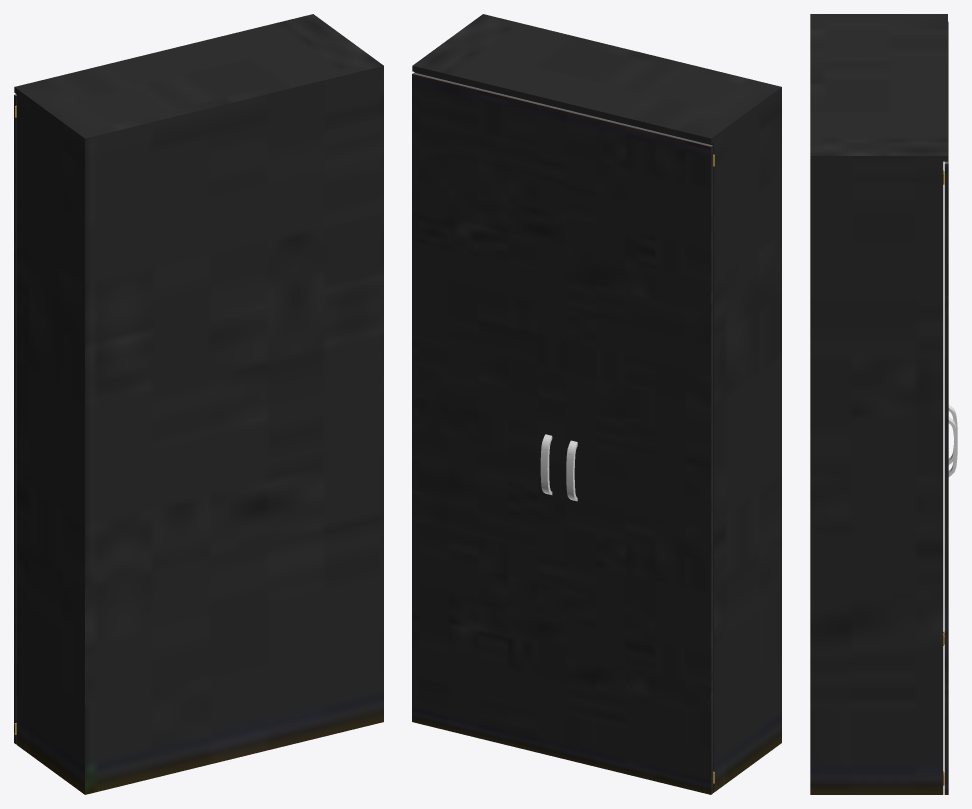
The model's file is Closet50.glb.
The picture shows the model from 3 angles, left to right: view 1: azimuth 30°, elevation 25°; view 2: azimuth 150°, elevation 25°; view 3: azimuth 270°, elevation 25°; orthographic projection. The views are drawn at different scales.
Visible parts, largest first — view 1: Closet50_model, Closet50DoorR; view 2: Closet50DoorR, Closet50DoorL, Closet50_model; view 3: Closet50_model, Closet50DoorL.
Part boxes in pixels (x1,y1,x2,y2): Closet50_model: (14, 14, 383, 794); Closet50DoorR: (14, 94, 16, 744); Closet50DoorR: (561, 109, 714, 794); Closet50DoorL: (412, 72, 562, 758); Closet50_model: (412, 14, 781, 792); Closet50_model: (810, 14, 947, 794); Closet50DoorL: (943, 93, 957, 794).
Bounding box in the file's own units: 2.49 × 5.18 × 1.08.
Materials: 1 (1 with a texture image).
